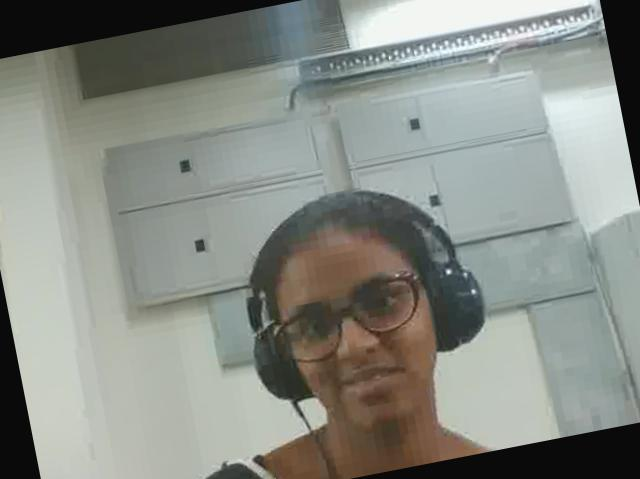bosan: (272, 217, 452, 435)
